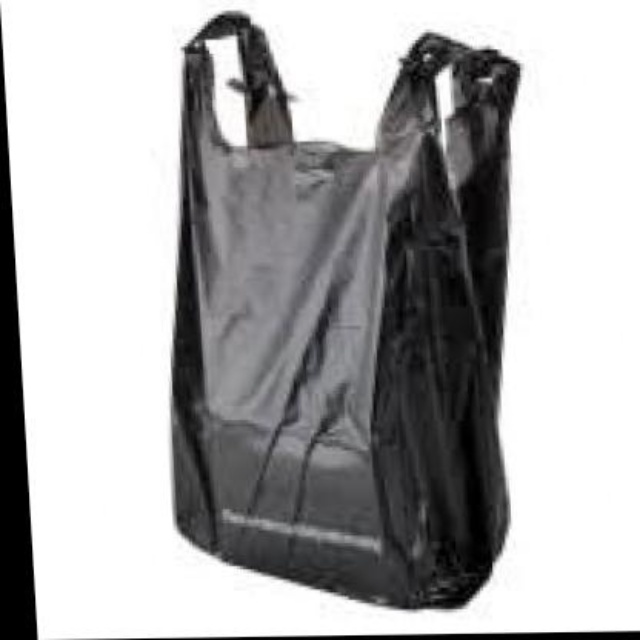trash: (172, 12, 518, 606)
